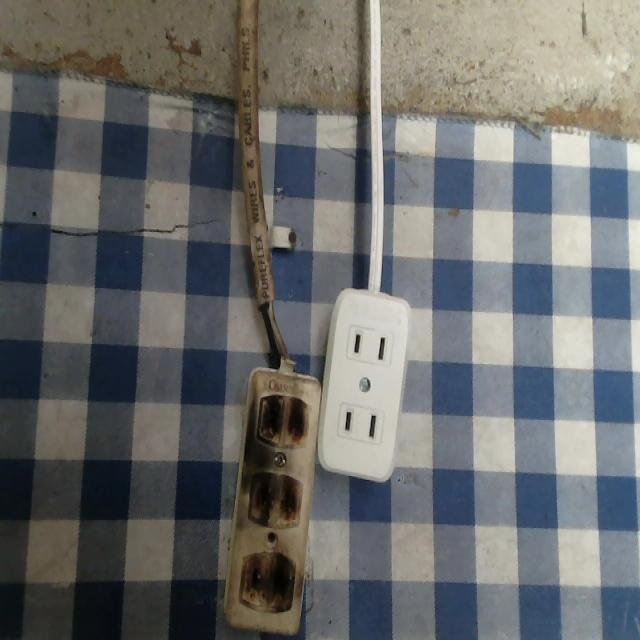-: (235, 541, 296, 616), (242, 467, 308, 532), (255, 392, 311, 448)
